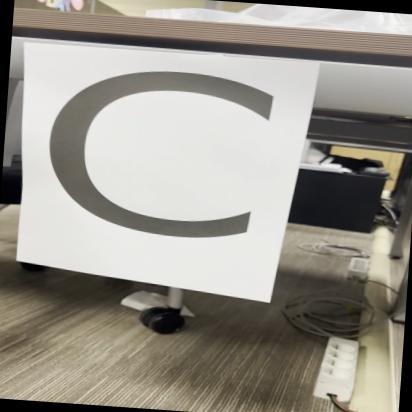seat: (26, 46, 289, 302)
